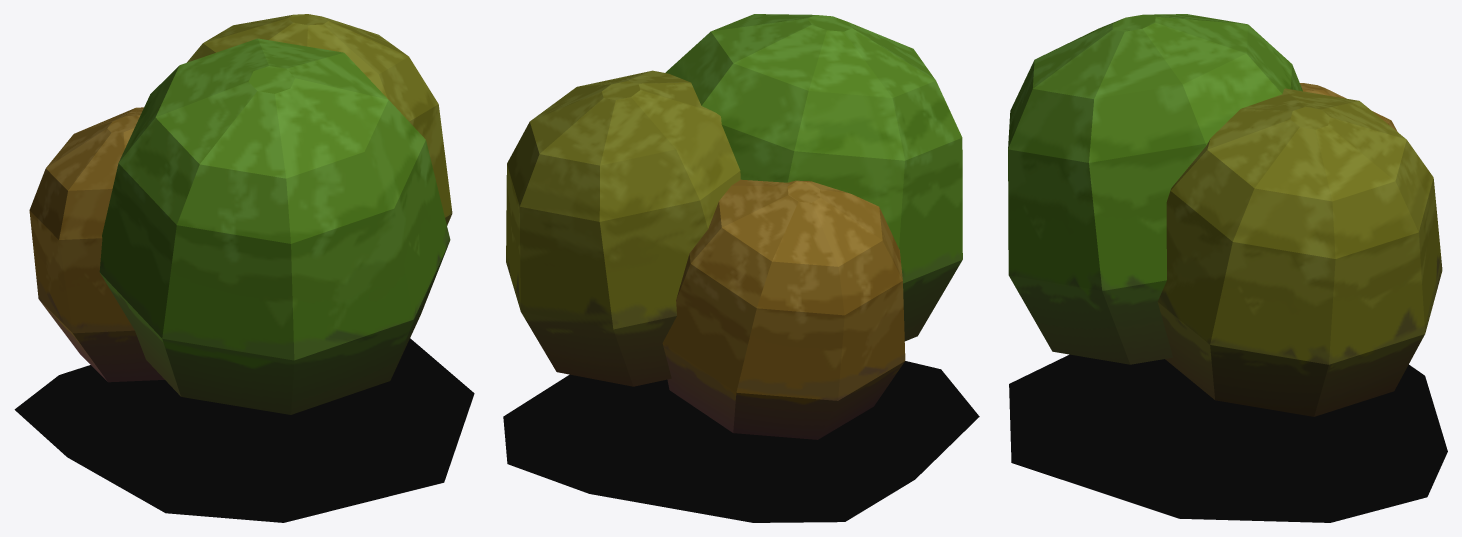
The model's file is Tree_003.fbx.
The picture shows the model from 3 angles, left to right: view 1: azimuth 30°, elevation 25°; view 2: azimuth 150°, elevation 25°; view 3: azimuth 270°, elevation 25°; orthographic projection.
Parts seen in each view (by area): view 1: Tree_003_01, Shadow, Tree_003_02, Tree_003_03; view 2: Tree_003_03, Tree_003_02, Tree_003_01, Shadow; view 3: Tree_003_03, Tree_003_01, Shadow.
Boxes of the visible parts, x1,y1,x2,y2 form: Tree_003_01: [99, 38, 450, 414]; Shadow: [14, 338, 474, 522]; Tree_003_02: [29, 107, 164, 382]; Tree_003_03: [187, 14, 452, 225]; Tree_003_03: [506, 70, 740, 386]; Tree_003_02: [662, 179, 905, 439]; Tree_003_01: [665, 14, 962, 341]; Shadow: [503, 361, 979, 522]; Tree_003_03: [1157, 88, 1442, 416]; Tree_003_01: [1008, 14, 1302, 364]; Shadow: [1009, 354, 1447, 522].
Bounding box in the file's own units: 200 × 196 × 200.
